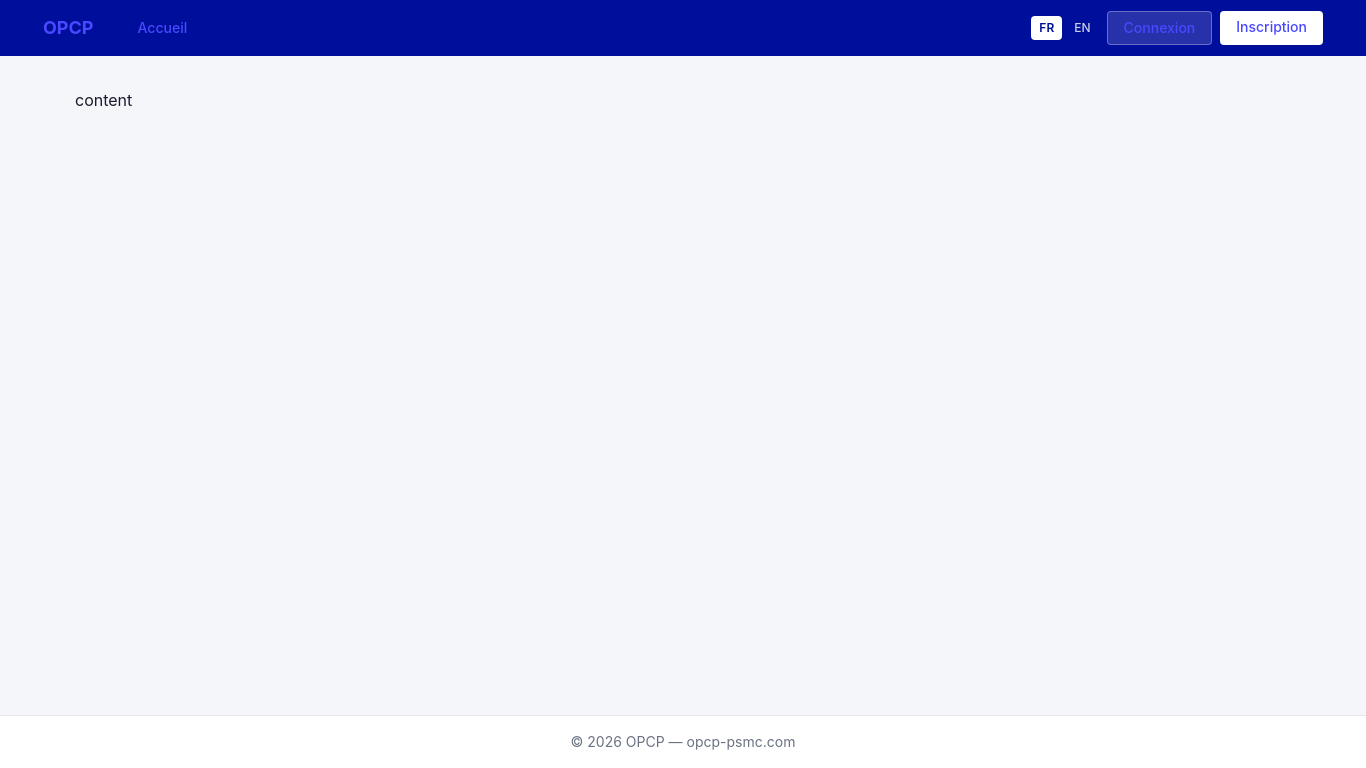
it: switching language re-renders consumer text without reload › shows English nav text after clicking EN and French nav text after clicking FR
Expected: the link "Accueil" is shown, [138,19,187,36]
Expected: the link "Home" is not shown
# Select English: same component instance re-renders the consumer text.
Click the button "EN" at {"x": 1082, "y": 28}, box [1066,16,1099,40]
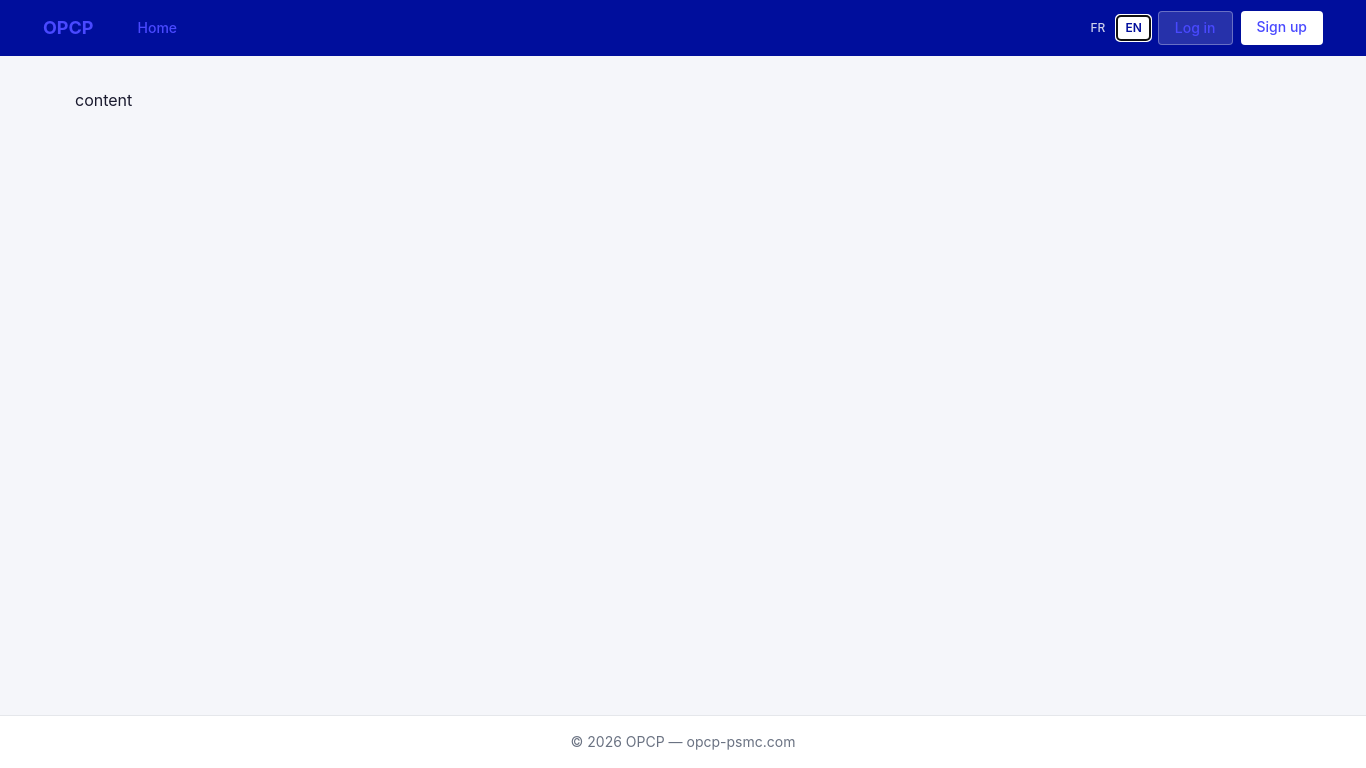
Expected: the link "Home" is shown, [138,19,177,36]
Expected: the link "Accueil" is gone
# Switch back to French: the consumer text reverts in place.
Click the button "FR" at {"x": 1098, "y": 28}, box [1082,16,1113,40]
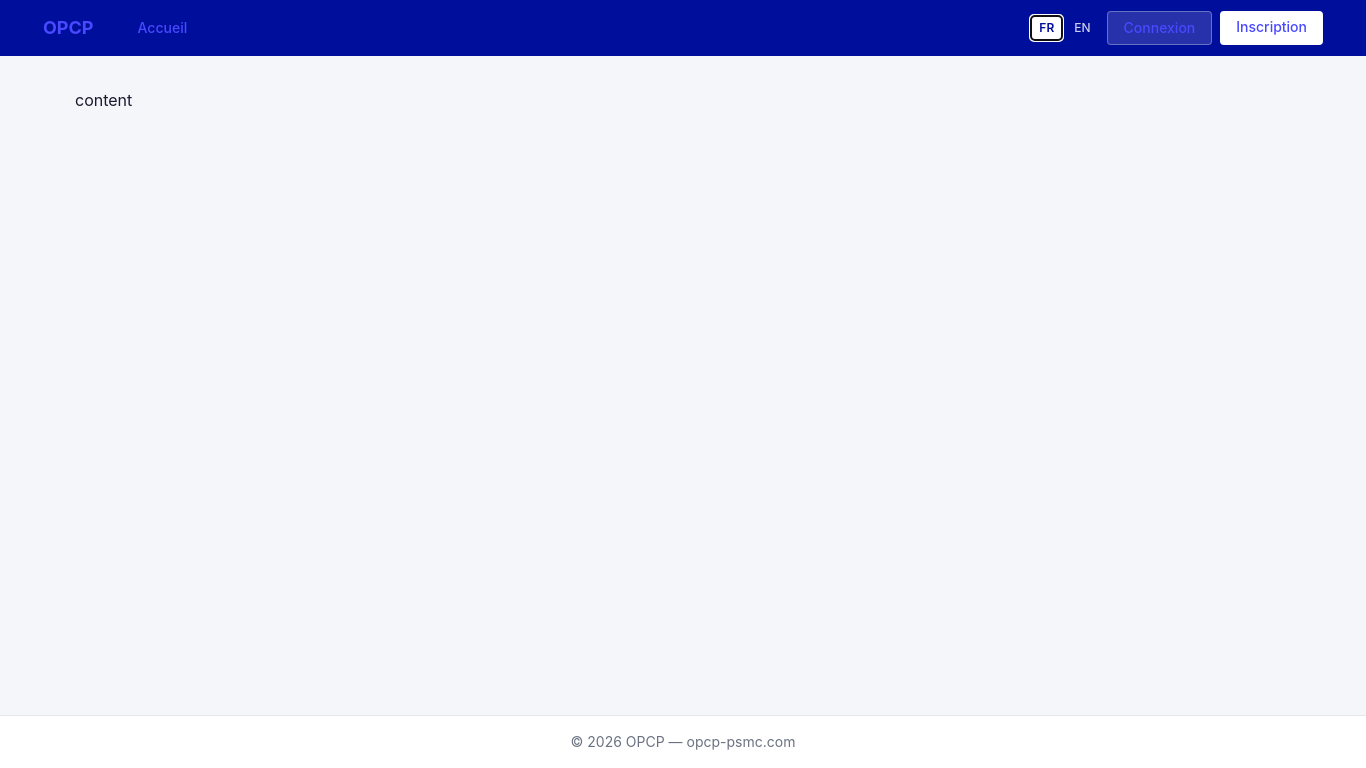
Expected: the link "Accueil" is shown, [138,19,187,36]
Expected: the link "Home" is gone
